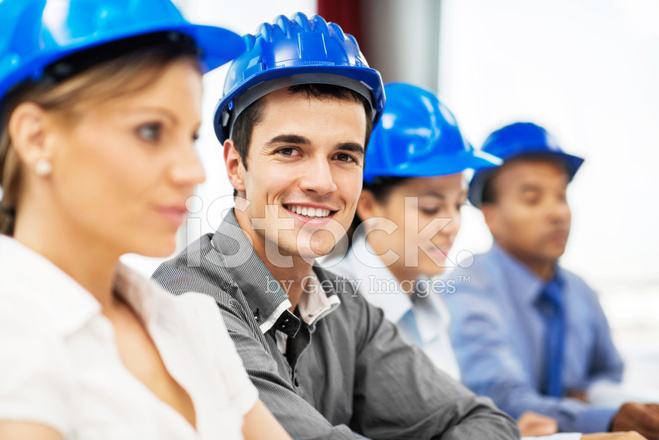helmet: (215, 18, 376, 99), (344, 85, 489, 173), (468, 121, 581, 166)
